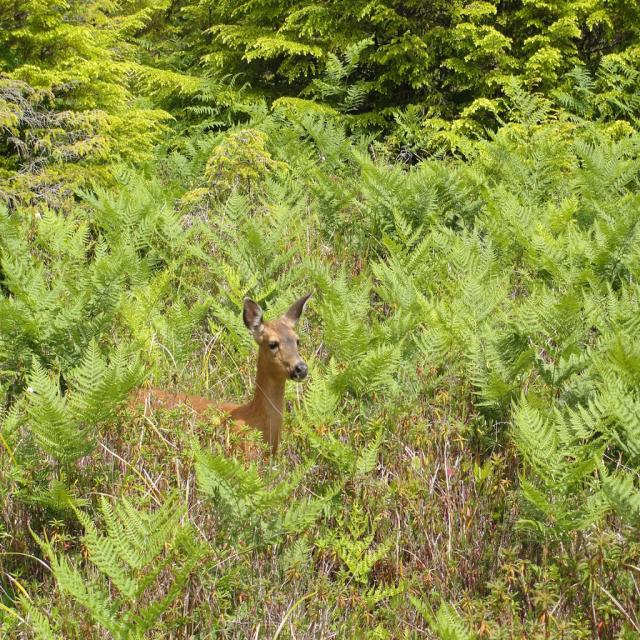Deer: (108, 288, 318, 455)
